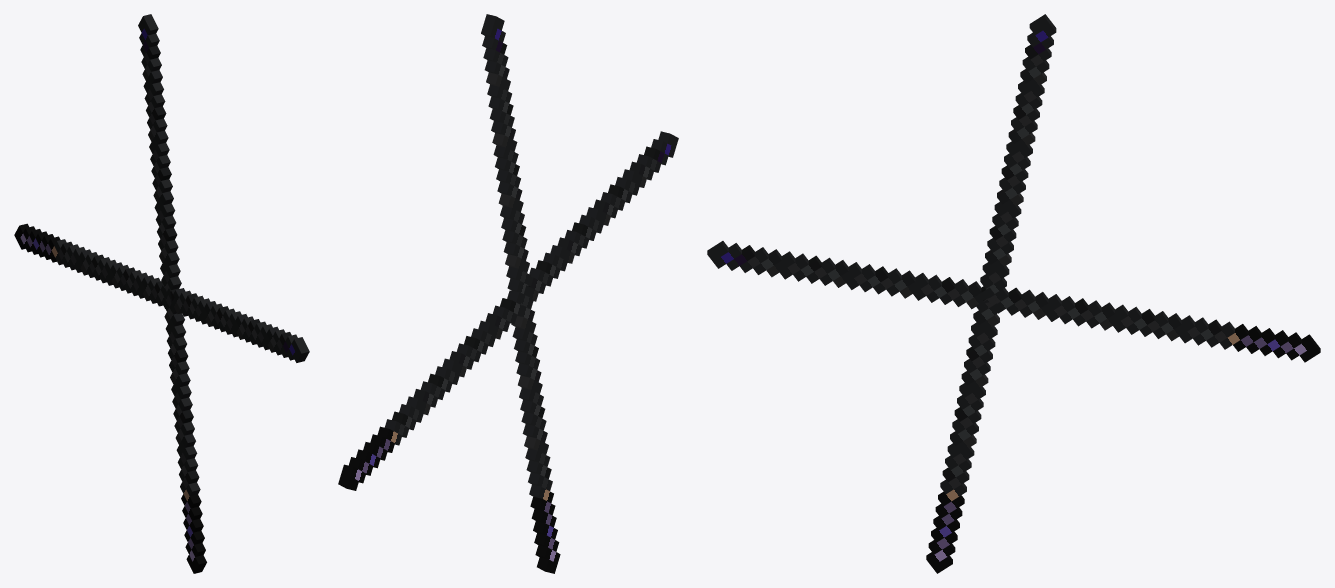
File: dragonsteel_lightning_pike.glb
3 renders of one model, left to right at view 1: azimuth 30°, elevation 25°; view 2: azimuth 150°, elevation 25°; view 3: azimuth 270°, elevation 25°, orthographic. The views are drawn at different scales.
Visible parts, largest first — view 1: off__Tool_L, main__Tool_R; view 2: off__Tool_L, main__Tool_R; view 3: main__Tool_R, off__Tool_L.
Part boxes in pixels (left/top/right/bottom): off__Tool_L: left=138, top=14, right=206, bottom=573; main__Tool_R: left=14, top=223, right=309, bottom=362; off__Tool_L: left=481, top=14, right=560, bottom=573; main__Tool_R: left=338, top=131, right=678, bottom=490; main__Tool_R: left=707, top=241, right=1320, bottom=362; off__Tool_L: left=926, top=14, right=1056, bottom=573.
Bounding box in the file's own units: 0.0625 × 3.75 × 3.75.
1 material, 1 textured.
